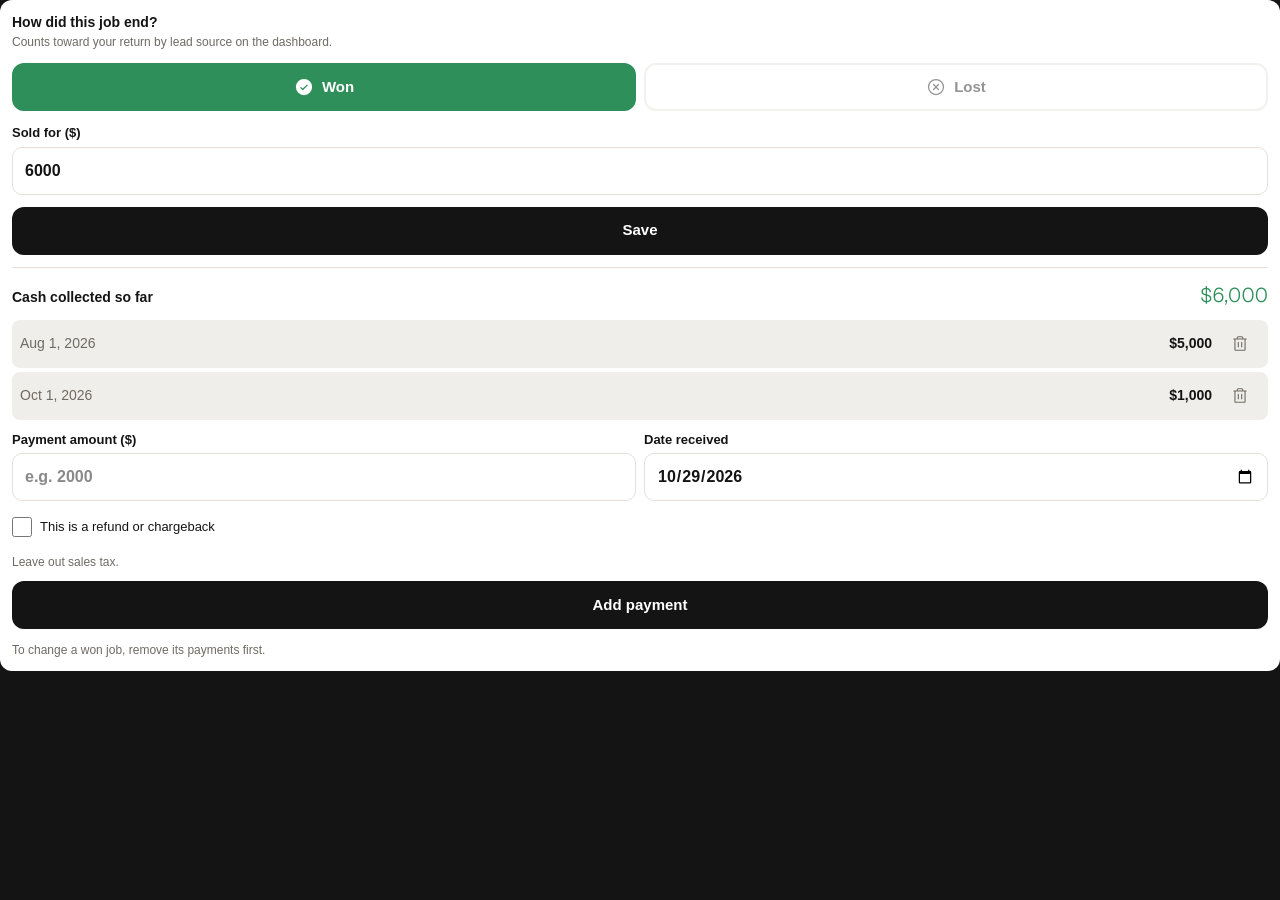
JobOutcomePanel › adds a payment for today as "now", with the number keypad
Type "1,000" into the field labelled "Payment amount ($)".
click(324, 477); type("1,000")  # box [12,453,636,501]
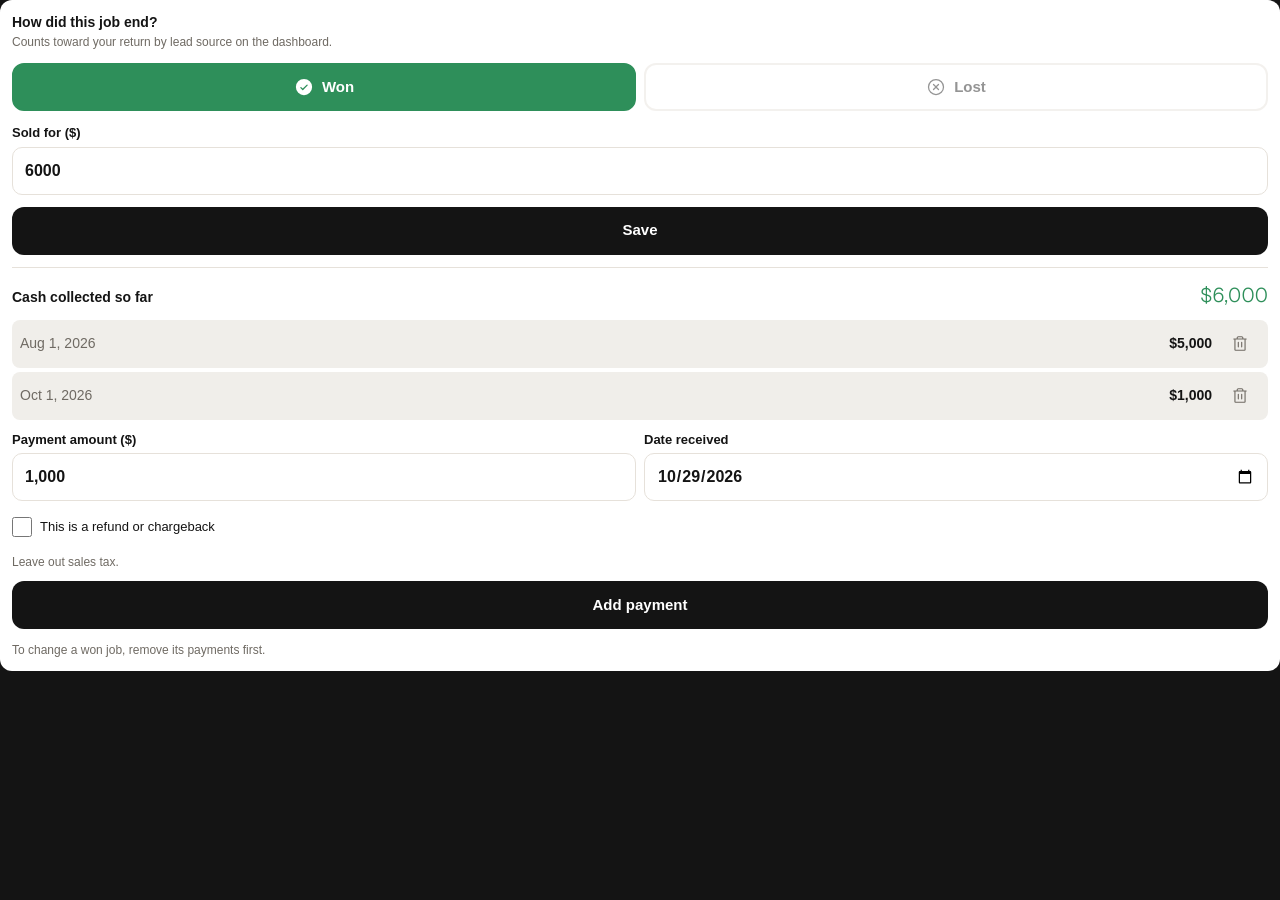
Click the button "Add payment".
click(640, 605)  # box [12,581,1268,629]
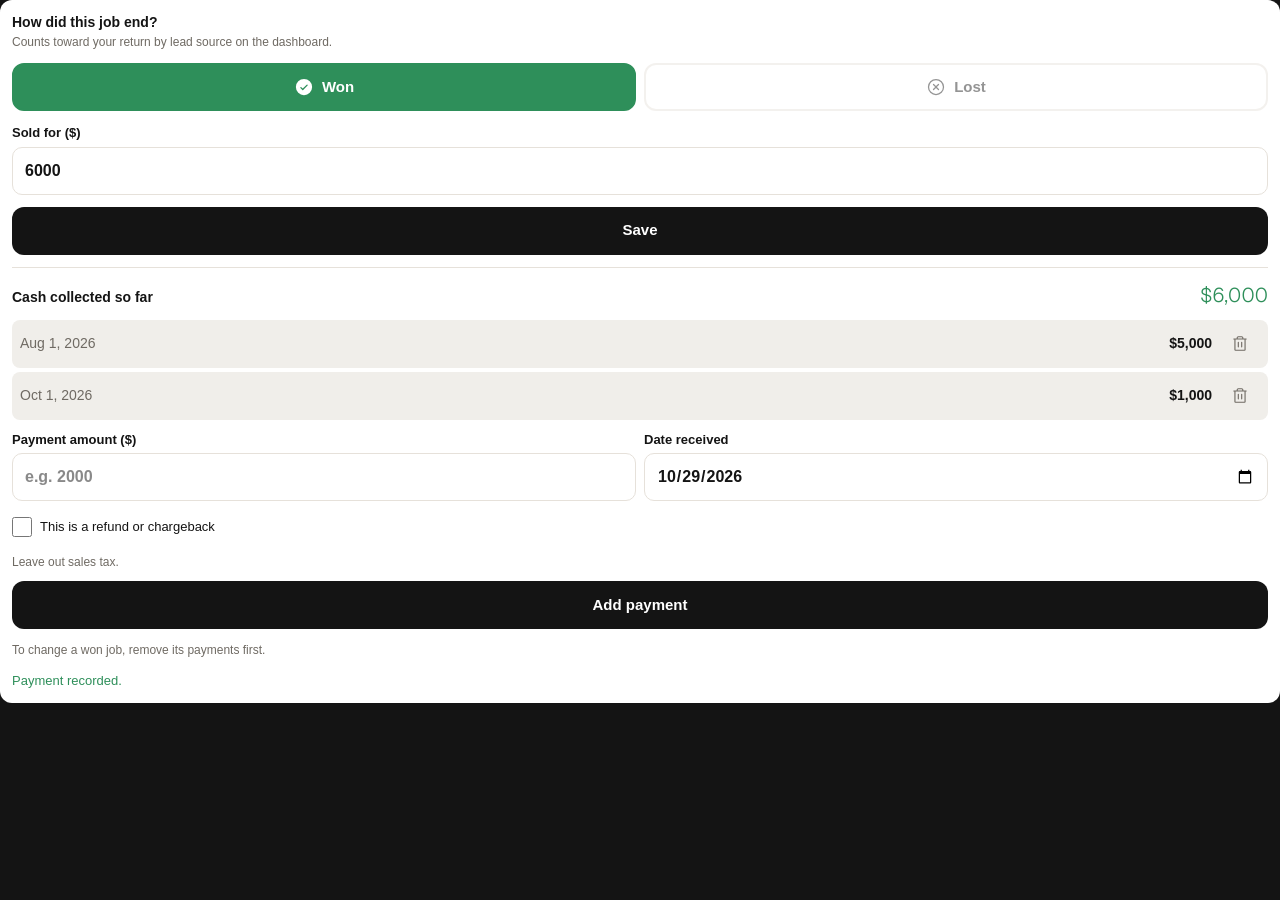
Check: the message reads "Payment recorded.", box [12,673,122,688]
Check: the field labelled "Payment amount ($)" is empty, box [12,453,636,501]
